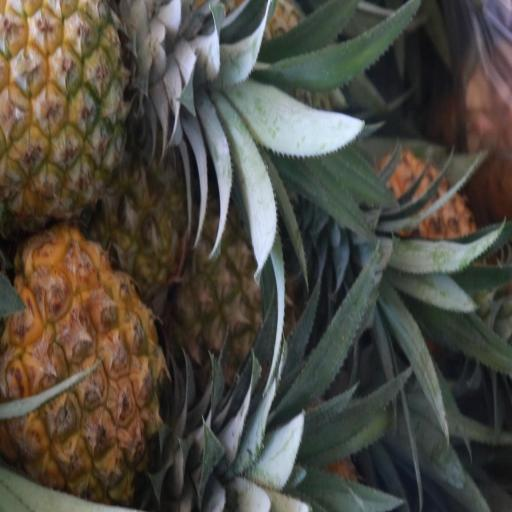Pineapple - v8 v1: (1, 230, 162, 494), (0, 0, 162, 204), (172, 204, 291, 394)
